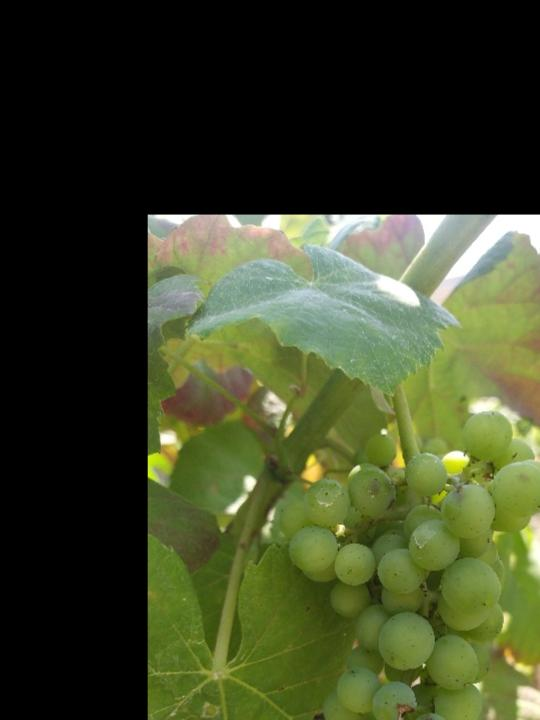grape: (270, 407, 540, 720)
